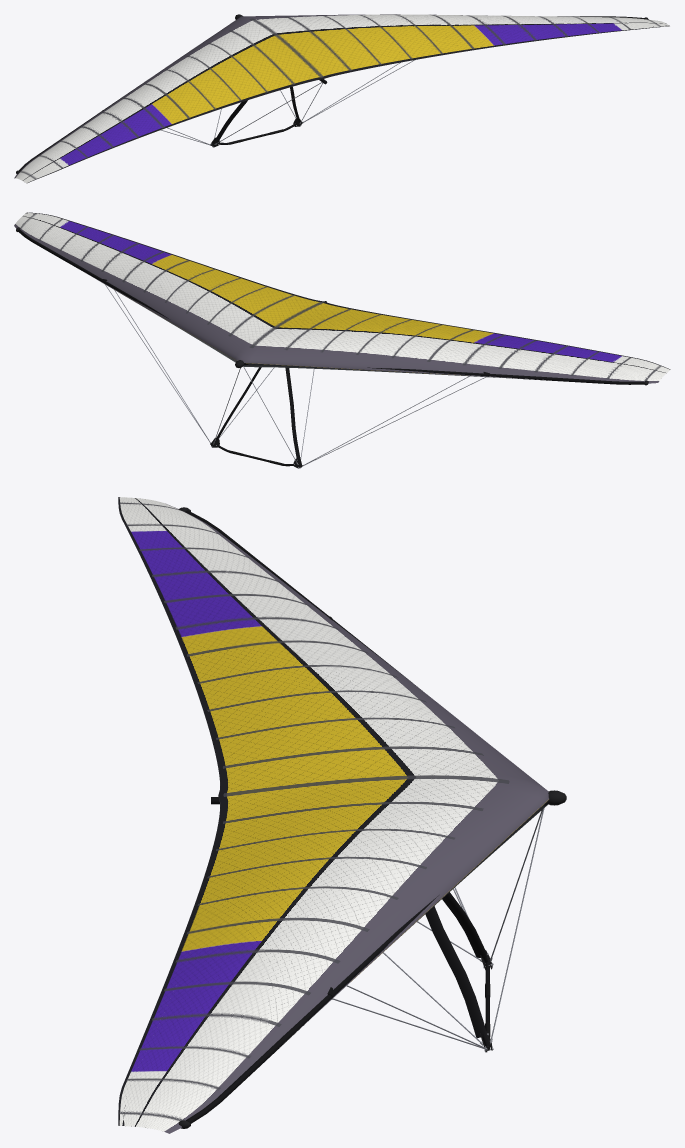
Rendered from glider_moyes_litespeed_rx.glb.
3 views of the same model, one above another, from view 1: azimuth 30°, elevation 25°; view 2: azimuth 150°, elevation 25°; view 3: azimuth 270°, elevation 25° (orthographic). The views are drawn at different scales.
Visible parts, largest first — view 1: Sail, ControlFrame, Frame; view 2: Sail, ControlFrame, Frame; view 3: Sail, ControlFrame, Frame.
Part boxes in pixels (<box>): Sail: <box>14,14,670,183</box>; ControlFrame: <box>161,60,414,147</box>; Frame: <box>16,14,648,173</box>; Sail: <box>14,212,670,383</box>; ControlFrame: <box>105,284,486,468</box>; Frame: <box>16,227,648,385</box>; Sail: <box>118,497,549,1133</box>; ControlFrame: <box>332,808,544,1052</box>; Frame: <box>178,507,566,1128</box>.
Size of the model in its own units: 10.27 by 1.82 by 3.1.
8 materials, 1 textured.
